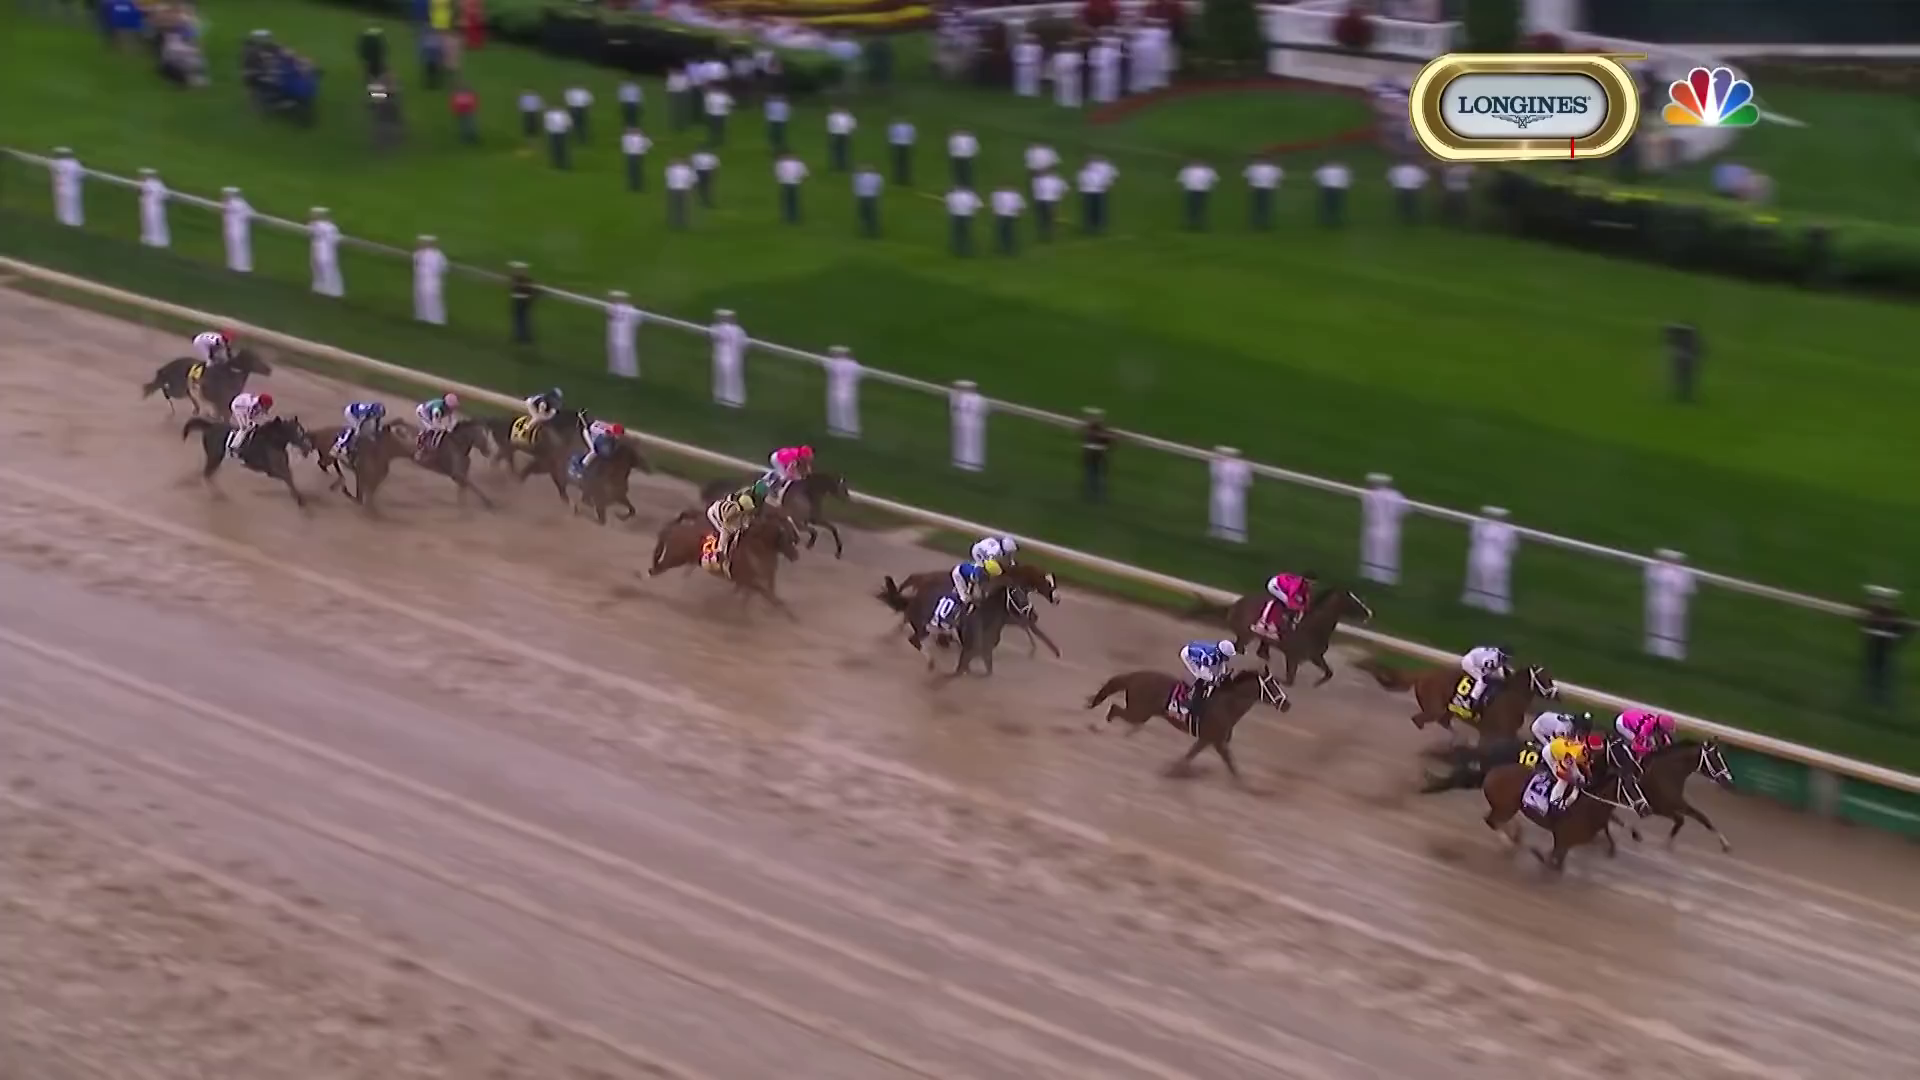jockey: (1534, 738, 1600, 811), (703, 487, 767, 559), (1618, 709, 1680, 762), (224, 393, 274, 458), (1179, 642, 1236, 699), (767, 443, 814, 512), (1460, 647, 1513, 705), (949, 562, 1001, 617), (1536, 705, 1582, 764), (579, 419, 626, 473), (1269, 571, 1313, 628), (522, 382, 567, 439), (415, 392, 462, 446), (345, 401, 384, 460), (193, 330, 231, 380), (971, 537, 1015, 578)
